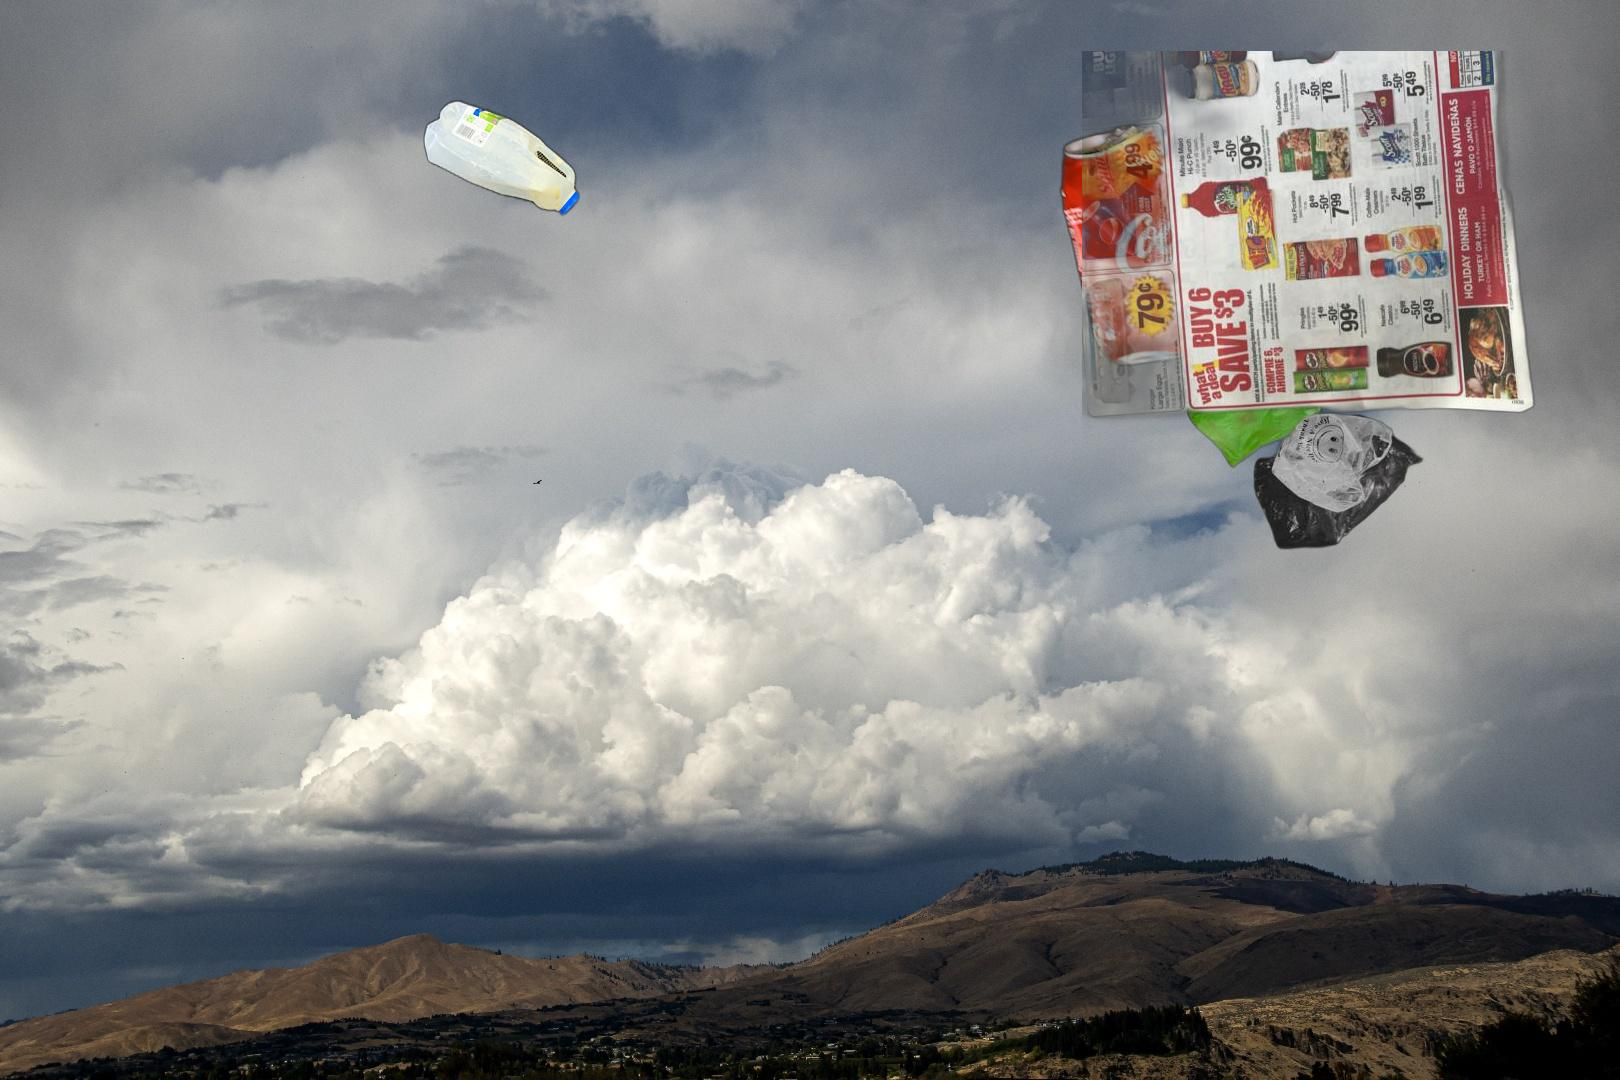metal-cans: (1055, 121, 1209, 372)
paper: (1082, 51, 1538, 435)
plastic-bag: (1184, 335, 1426, 551)
plastic-bottles: (419, 94, 583, 221)
